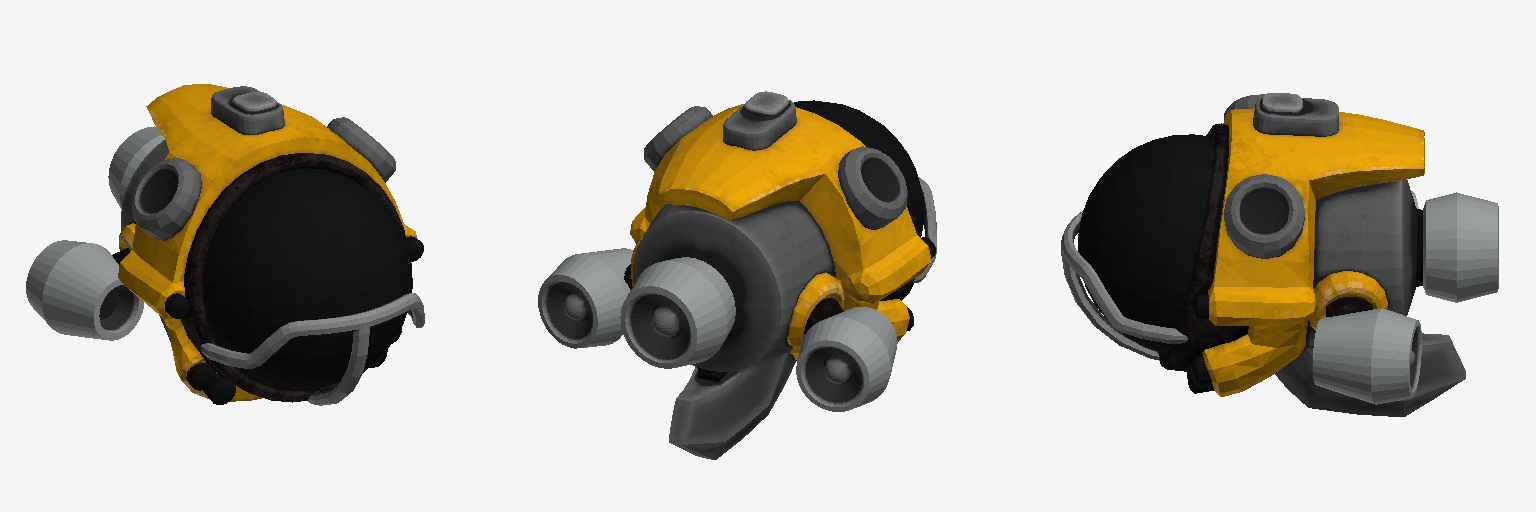
3 views of the same model, side by side, from view 1: azimuth 30°, elevation 25°; view 2: azimuth 150°, elevation 25°; view 3: azimuth 270°, elevation 25° (orthographic).
Visible parts, largest first — view 1: Sketchfab_Model.022; view 2: Sketchfab_Model.022; view 3: Sketchfab_Model.022.
Part boxes in pixels (bbox=[...]): Sketchfab_Model.022: bbox=[26, 84, 424, 405]; Sketchfab_Model.022: bbox=[538, 91, 936, 459]; Sketchfab_Model.022: bbox=[1061, 93, 1498, 416].
Size of the model in its own units: 3.44 by 3.07 by 3.87.
1 materials, 1 textured.